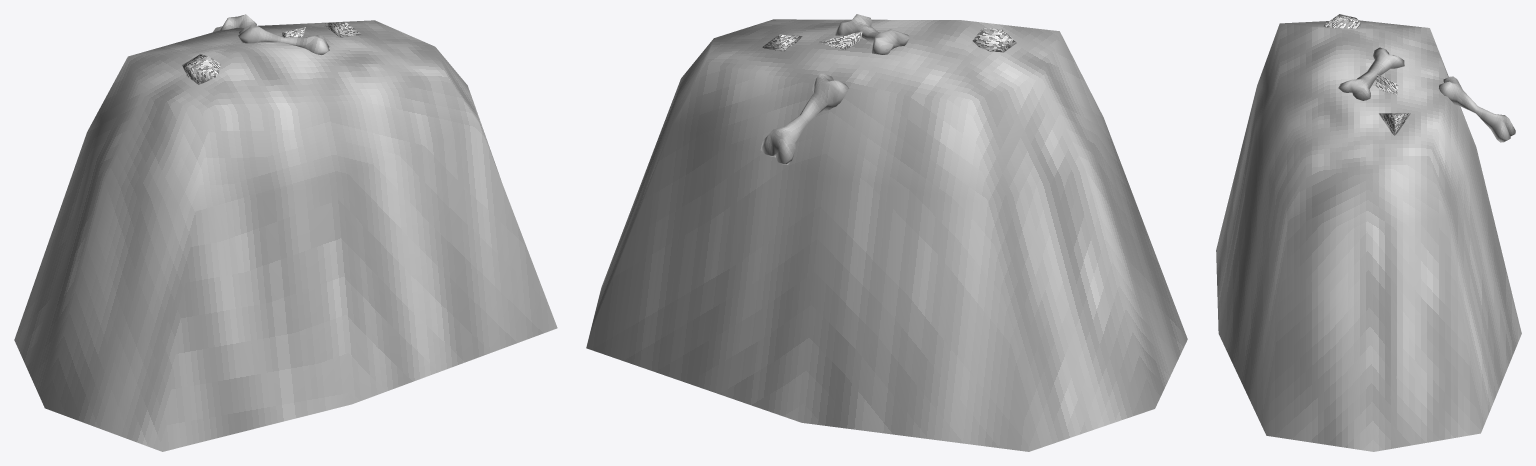
The model's file is lionstone.obj.
3 renders of one model, left to right at view 1: azimuth 30°, elevation 25°; view 2: azimuth 150°, elevation 25°; view 3: azimuth 270°, elevation 25°, orthographic. The views are drawn at different scales.
Parts seen in each view (by area): view 1: Sphere02, Duplicate01, Sphere04; view 2: Sphere02, Duplicate02, Duplicate01, Sphere04; view 3: Sphere02, Duplicate02, Duplicate01, Sphere03, Sphere04, Duplicate03.
Boxes of the visible parts, x1=… form: Sphere02: x1=14, y1=20, x2=557, y2=451; Duplicate01: x1=238, y1=24, x2=329, y2=54; Sphere04: x1=182, y1=54, x2=220, y2=84; Sphere02: x1=586, y1=19, x2=1187, y2=451; Duplicate02: x1=760, y1=73, x2=849, y2=164; Duplicate01: x1=835, y1=14, x2=910, y2=54; Sphere04: x1=972, y1=27, x2=1016, y2=52; Sphere02: x1=1216, y1=20, x2=1521, y2=451; Duplicate02: x1=1439, y1=76, x2=1515, y2=142; Duplicate01: x1=1338, y1=47, x2=1404, y2=100; Sphere03: x1=1379, y1=113, x2=1410, y2=135; Sphere04: x1=1323, y1=14, x2=1360, y2=28; Duplicate03: x1=1375, y1=73, x2=1398, y2=94.
Bounding box in the file's own units: 77.63 × 46.57 × 45.39.
